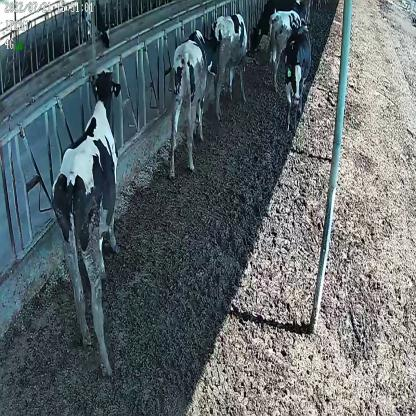cow: (50, 66, 122, 380), (168, 29, 220, 180), (211, 12, 252, 104), (284, 20, 312, 132), (268, 8, 303, 91)
